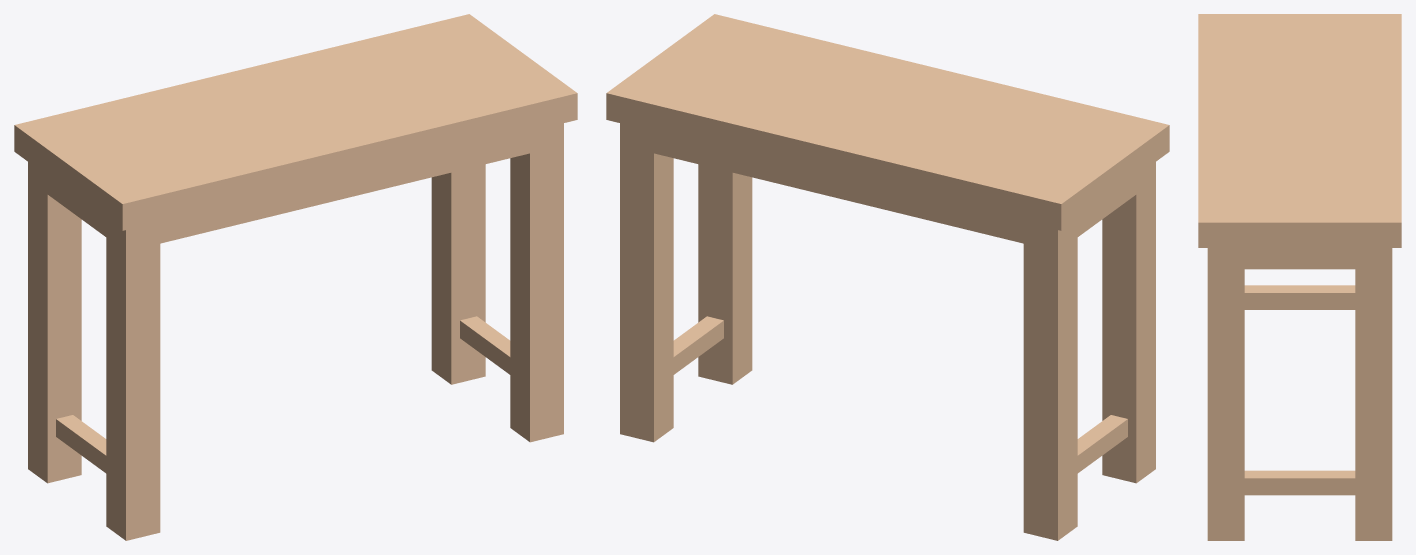
Rendered from sideTable.optimized.glb.
3 views of the same model, side by side, from view 1: azimuth 30°, elevation 25°; view 2: azimuth 150°, elevation 25°; view 3: azimuth 270°, elevation 25° (orthographic). The views are drawn at different scales.
Visible parts, largest first — view 1: sideTable(Clone); view 2: sideTable(Clone); view 3: sideTable(Clone).
Boxes of the visible parts, left/top/right/bottom form: sideTable(Clone): left=14, top=14, right=577, bottom=540; sideTable(Clone): left=606, top=14, right=1169, bottom=540; sideTable(Clone): left=1198, top=14, right=1401, bottom=540.
Bounding box in the file's own units: 0.5345 × 0.3844 × 0.22.
